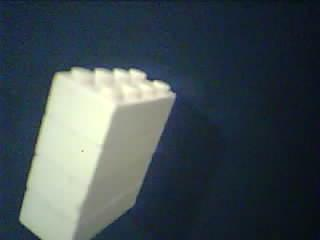lego: (18, 65, 177, 239)
